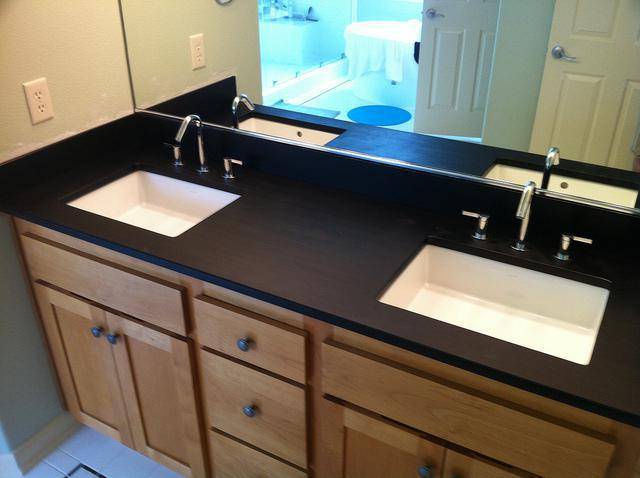Lavamanos: (369, 179, 625, 374), (63, 112, 253, 238)
